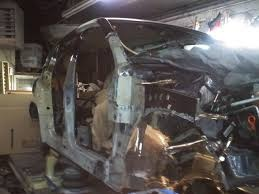Smashed: (48, 18, 259, 194)
